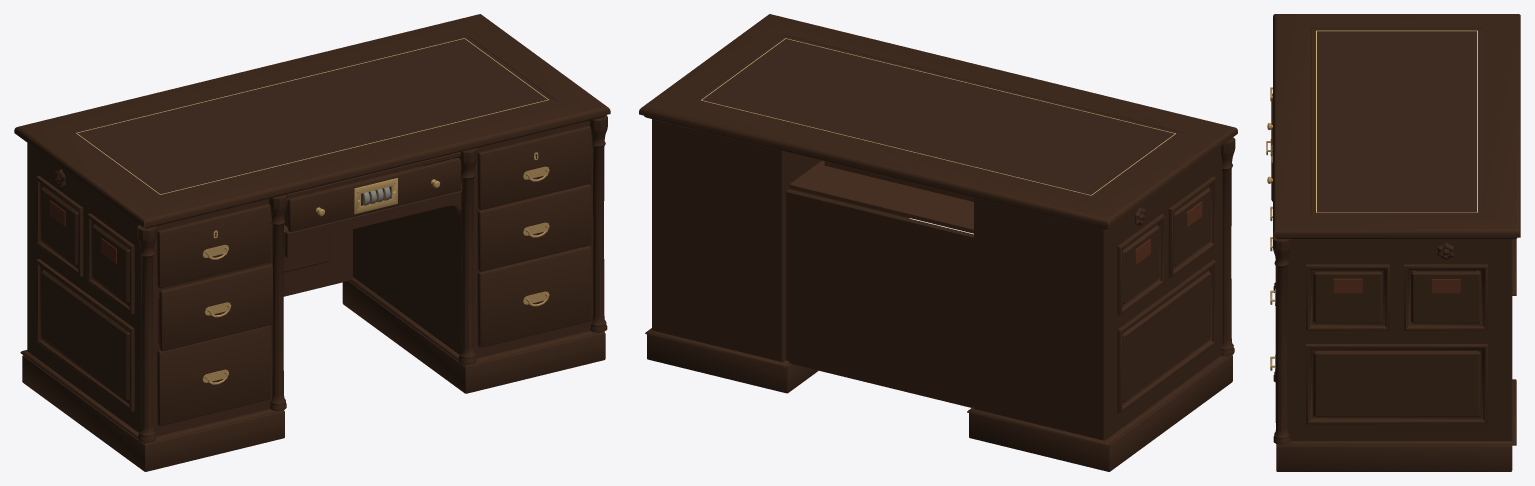
Rendered from desk.glb.
3 views of the same model, side by side, from view 1: azimuth 30°, elevation 25°; view 2: azimuth 150°, elevation 25°; view 3: azimuth 270°, elevation 25° (orthographic). The views are drawn at different scales.
Parts seen in each view (by area): view 1: desk_body, IA_drawer_top; view 2: desk_body, IA_drawer_top; view 3: desk_body, IA_compartment, IA_secret_panel.
Part boxes in pixels (left/top/right/bottom): desk_body: left=14, top=14, right=610, bottom=471; IA_drawer_top: left=284, top=157, right=460, bottom=231; desk_body: left=639, top=14, right=1237, bottom=471; IA_drawer_top: left=824, top=161, right=973, bottom=201; desk_body: left=1266, top=14, right=1520, bottom=471; IA_compartment: left=1411, top=270, right=1480, bottom=323; IA_secret_panel: left=1431, top=279, right=1460, bottom=293.
Size of the model in its own units: 1.5 by 0.78 by 0.7403.
